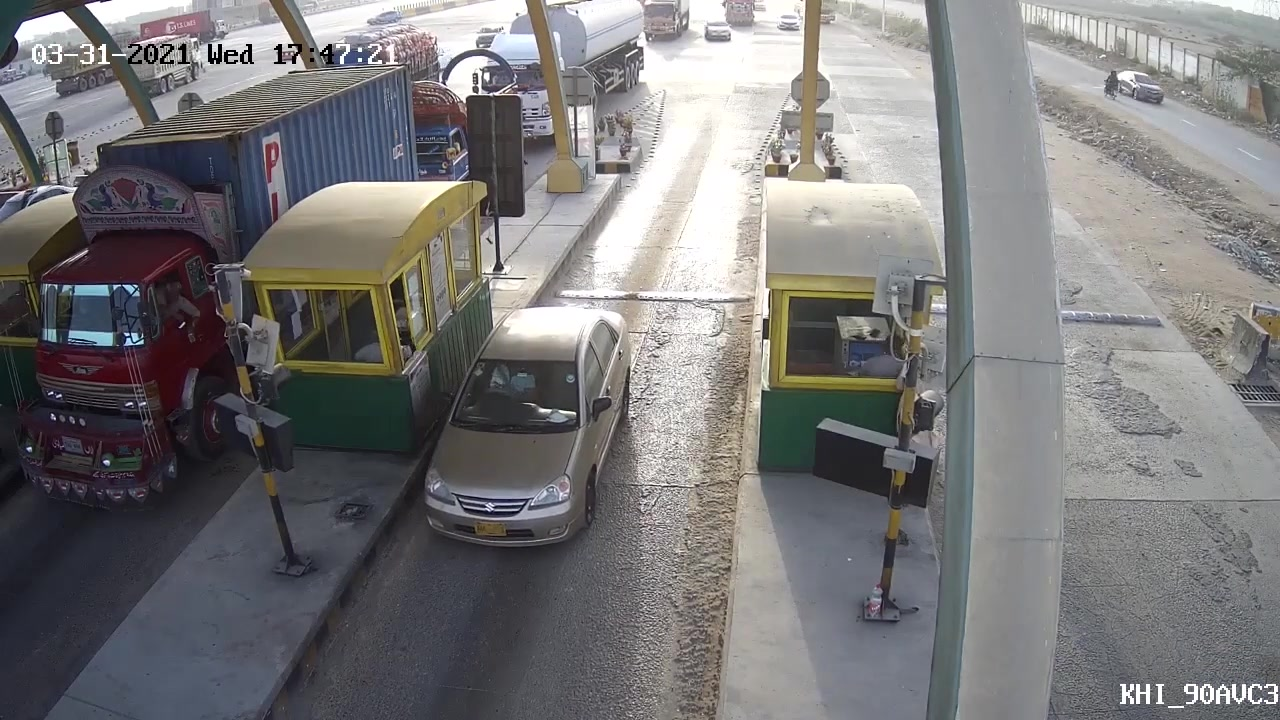F1: (417, 291, 642, 570)
